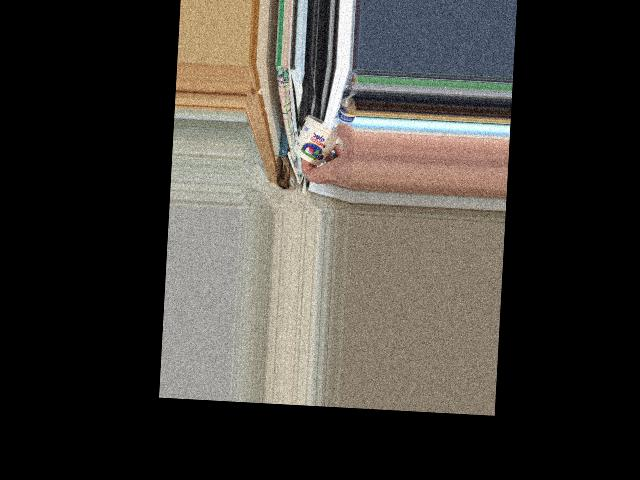cotage: (293, 112, 339, 164)
